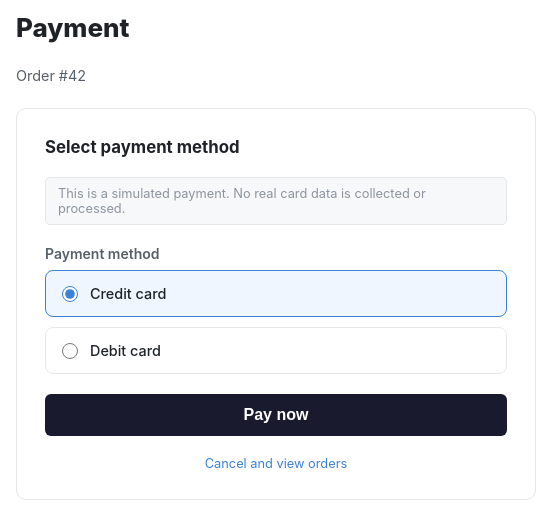
PaymentPage › can switch to DEBIT_CARD
The image size is (553, 517).
Click the radio button showing "DEBIT_CARD" at (70, 350), box [62, 342, 78, 358]
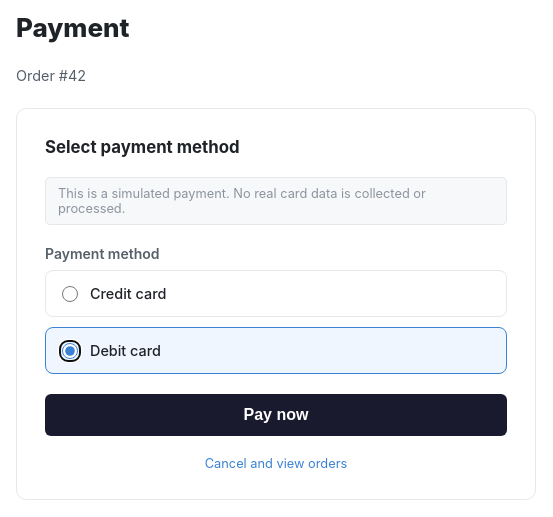
Expected: the radio button showing "DEBIT_CARD" is checked, [62, 342, 78, 358]
Expected: the radio button showing "CREDIT_CARD" is not checked, [62, 286, 78, 302]
